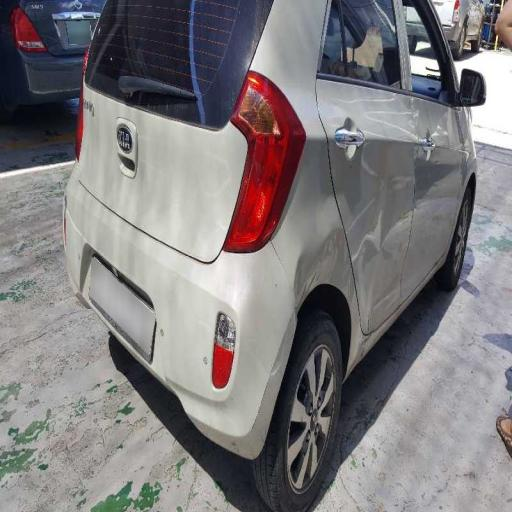scratch: (68, 3, 426, 348)
